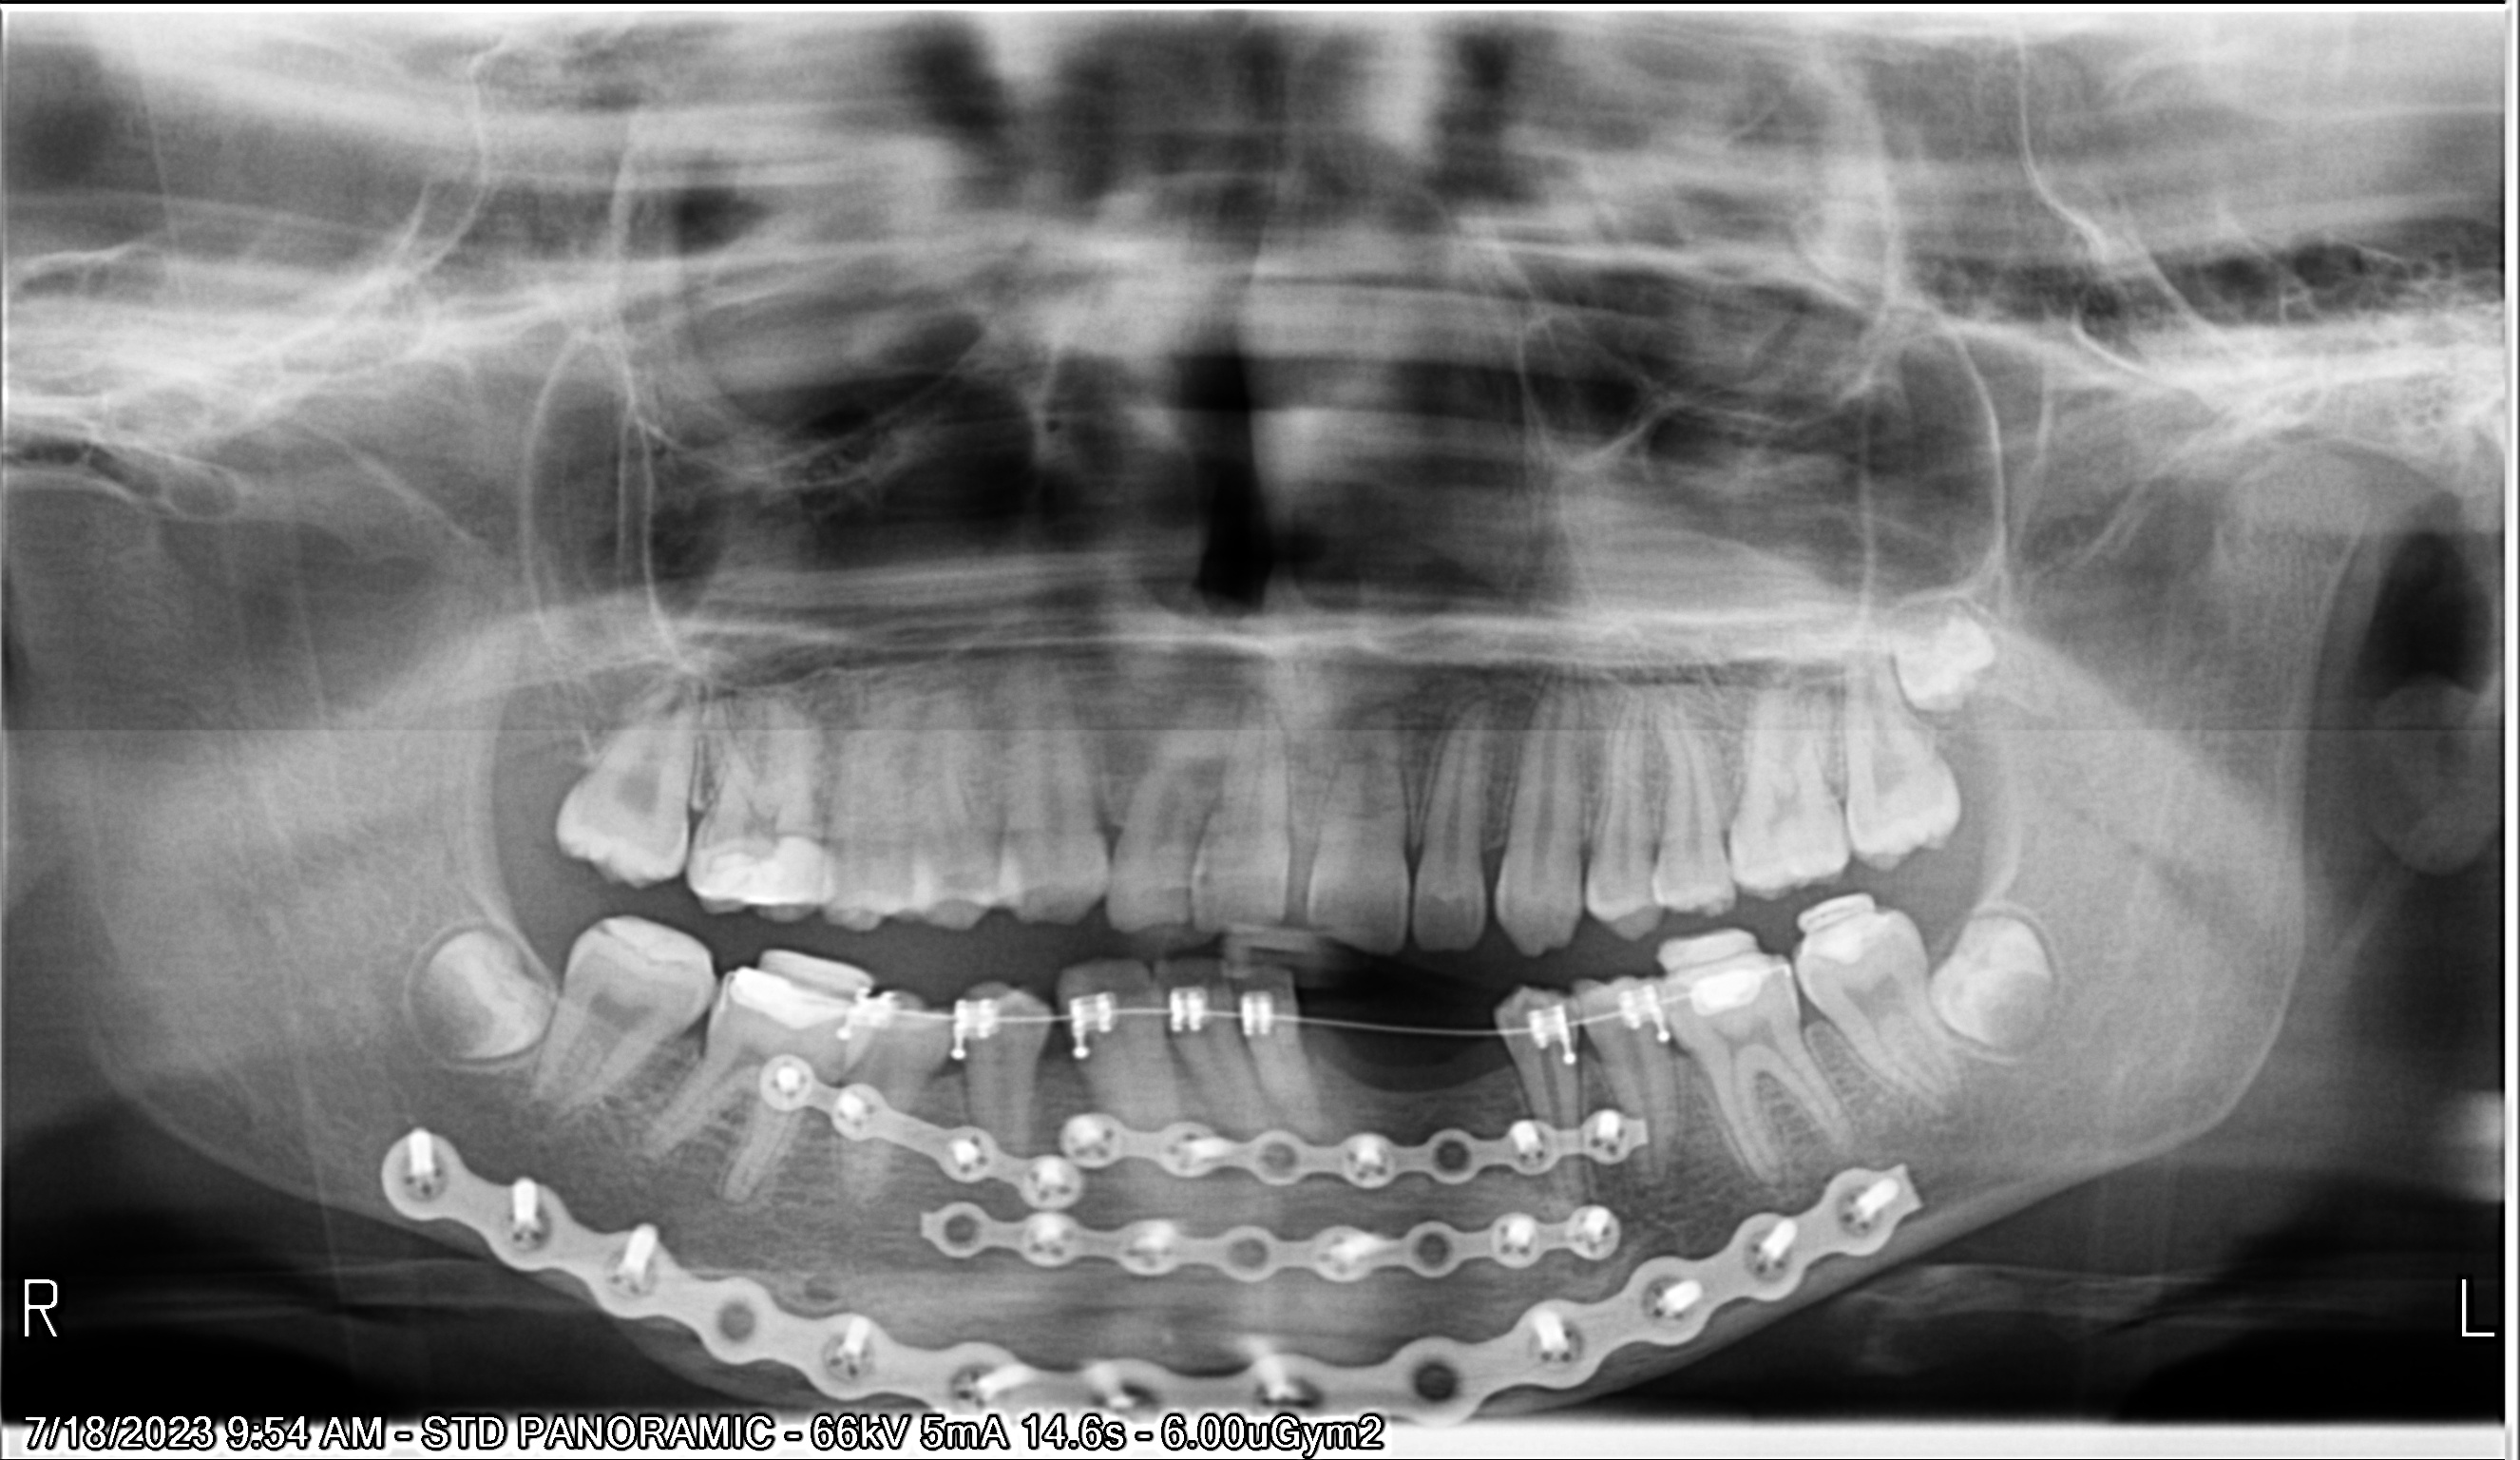BON: (1879, 596, 2025, 720)
ORD: (358, 1119, 1994, 1413), (894, 1189, 1653, 1286), (740, 1024, 1085, 1213), (1049, 1107, 1676, 1201)
PRR: (696, 827, 830, 919)
ROR: (828, 939, 1824, 1065)
